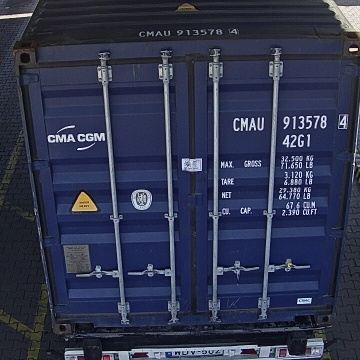serial_id: (233, 114, 347, 130)
